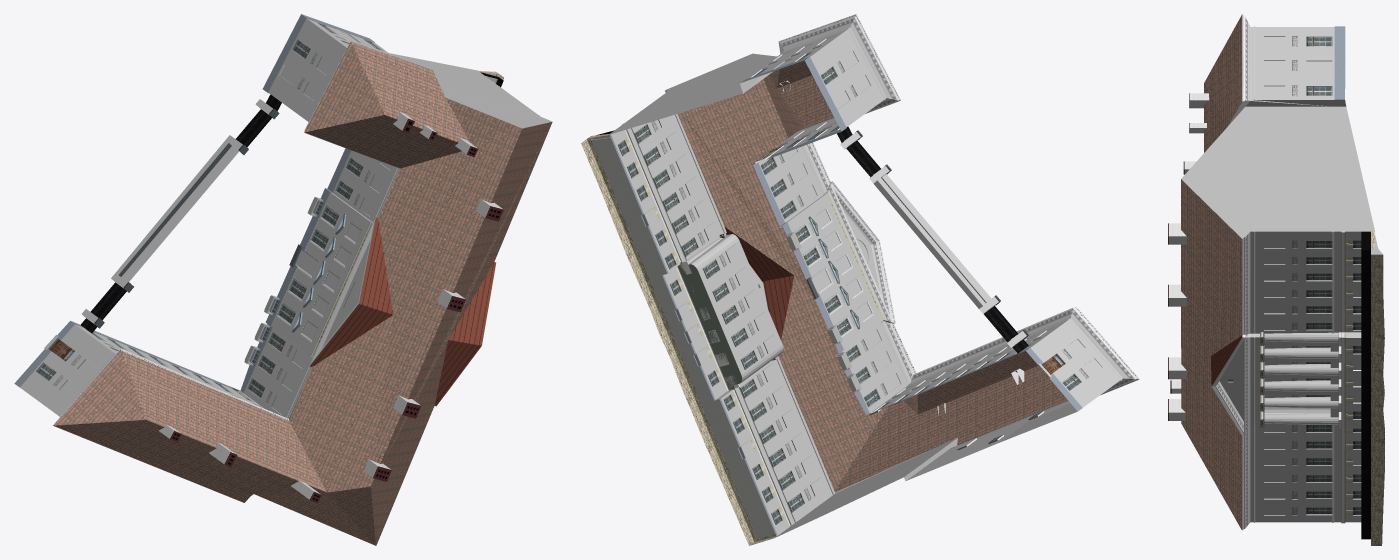
File: Kohtu_8.obj
3 views of the same model, side by side, from view 1: azimuth 30°, elevation 25°; view 2: azimuth 150°, elevation 25°; view 3: azimuth 270°, elevation 25° (orthographic). The views are drawn at different scales.
Visible parts, largest first — view 1: Kohtu_8; view 2: Kohtu_8; view 3: Kohtu_8.
Part boxes in pixels (x1=…): Kohtu_8: x1=14, y1=14, x2=552, y2=545; Kohtu_8: x1=581, y1=14, x2=1139, y2=545; Kohtu_8: x1=1168, y1=14, x2=1384, y2=545.
Bounding box in the file's own units: 61.29 × 58.73 × 22.55.
